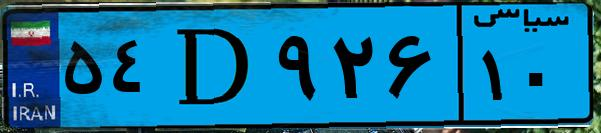0: (525, 38, 570, 115)
1: (475, 38, 525, 113)
2: (330, 28, 385, 110)
4: (110, 28, 158, 98)
5: (57, 26, 110, 100)
6: (385, 28, 445, 110)
9: (270, 28, 330, 110)
D: (158, 12, 270, 120)
